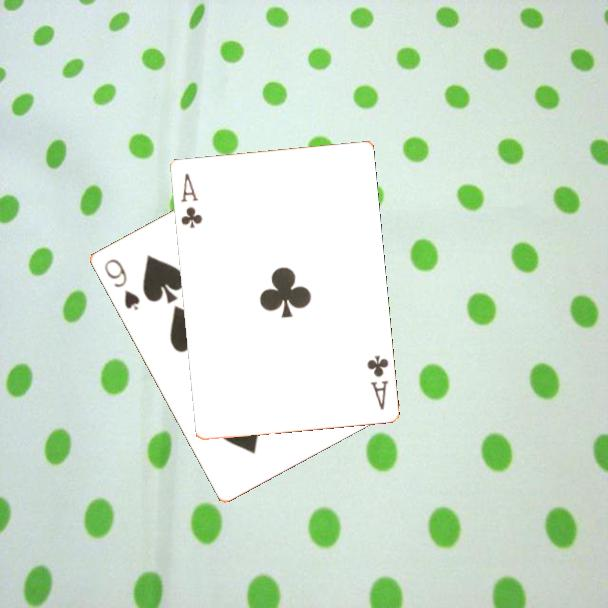c01: (177, 170, 205, 231), (363, 351, 391, 412)
s09: (100, 255, 142, 313)
